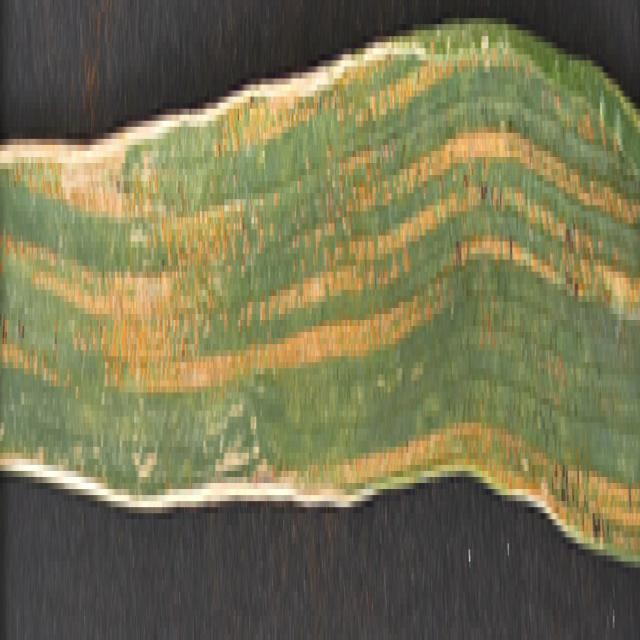leaf rust: (1, 60, 639, 508)
